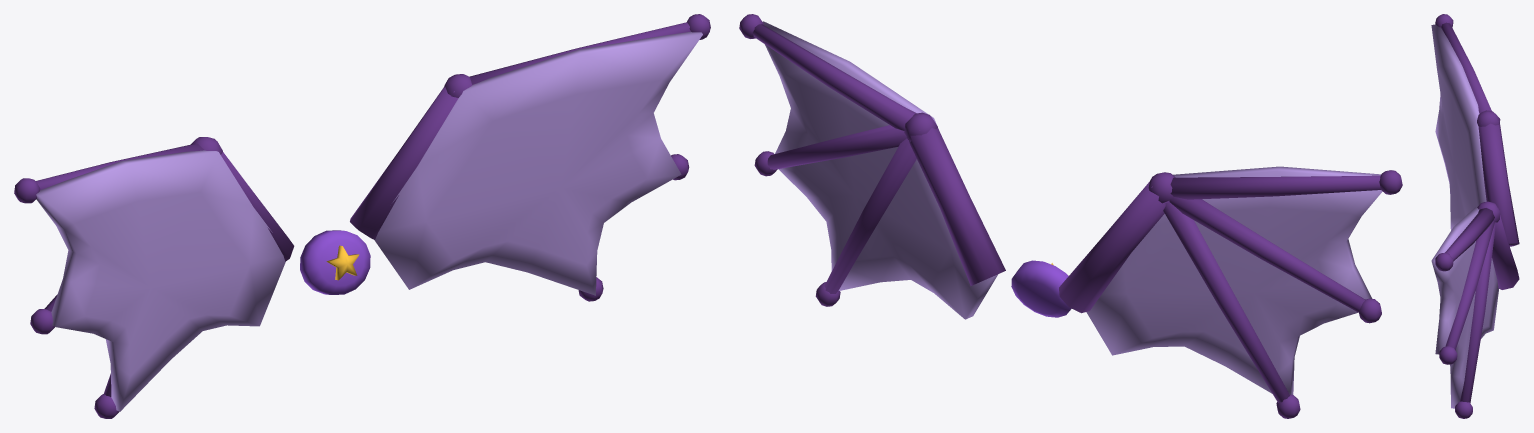
The model's file is ailes_chauve_souris.fbx.
3 renders of one model, left to right at view 1: azimuth 30°, elevation 25°; view 2: azimuth 150°, elevation 25°; view 3: azimuth 270°, elevation 25°, orthographic. The views are drawn at different scales.
Parts seen in each view (by area): view 1: Anim_AileGauche, Anim_AileDroite, Fermoir; view 2: Anim_AileDroite, Anim_AileGauche, Fermoir; view 3: Anim_AileGauche, Anim_AileDroite.
Part boxes in pixels (left/top/right/bottom): Anim_AileGauche: left=350, top=14, right=710, bottom=301; Anim_AileDroite: left=14, top=137, right=294, bottom=418; Fermoir: left=300, top=230, right=370, bottom=294; Anim_AileDroite: left=1059, top=166, right=1402, bottom=418; Anim_AileGauche: left=739, top=14, right=1005, bottom=319; Fermoir: left=1011, top=260, right=1071, bottom=317; Anim_AileGauche: left=1431, top=201, right=1519, bottom=418; Anim_AileDroite: left=1431, top=14, right=1519, bottom=246.
Bounding box in the file's own units: 1.98 × 0.7433 × 0.2996.
